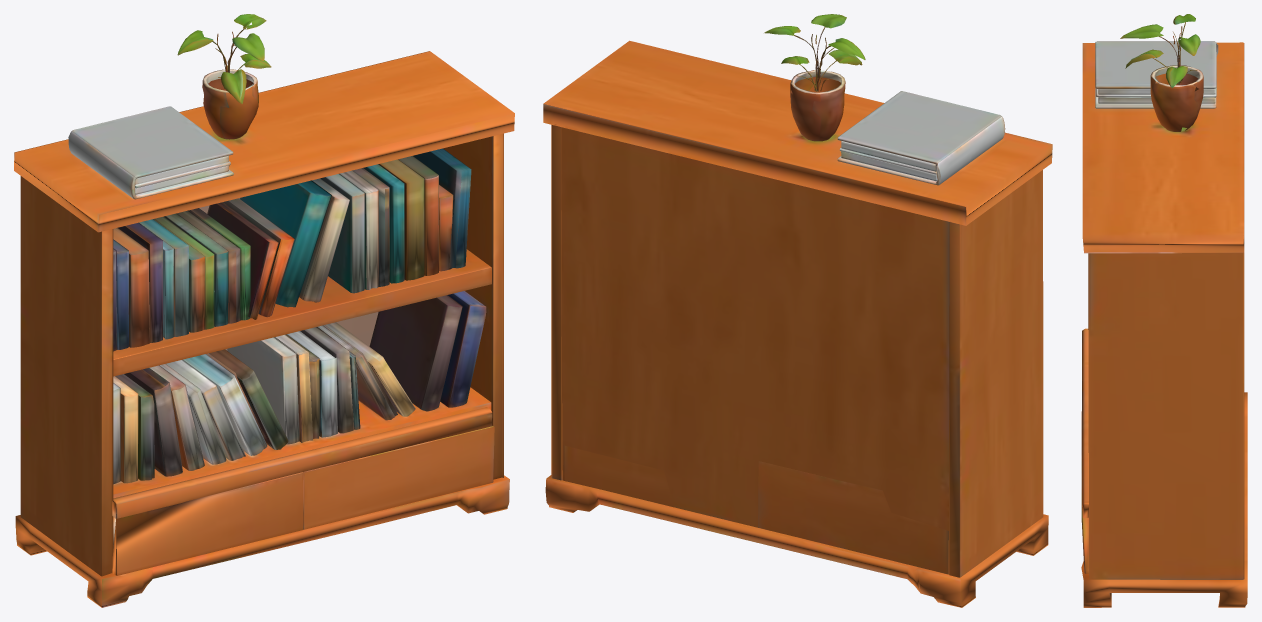
The model's file is bookcase.glb.
3 renders of one model, left to right at view 1: azimuth 30°, elevation 25°; view 2: azimuth 150°, elevation 25°; view 3: azimuth 270°, elevation 25°, orthographic. The views are drawn at different scales.
Size of the model in its own units: 0.7417 by 0.8545 by 0.27.
Materials: 1 (1 with a texture image).
